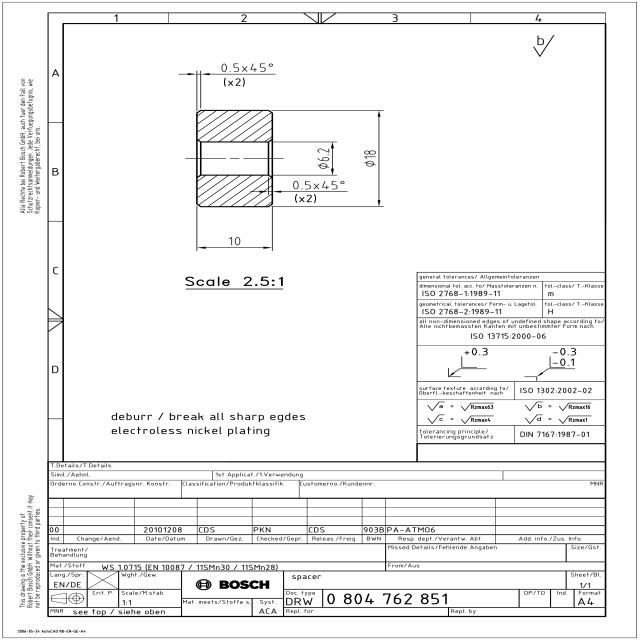dimension: (290, 178, 348, 205), (219, 61, 275, 88), (315, 147, 331, 170), (362, 149, 378, 168), (226, 235, 242, 247)
